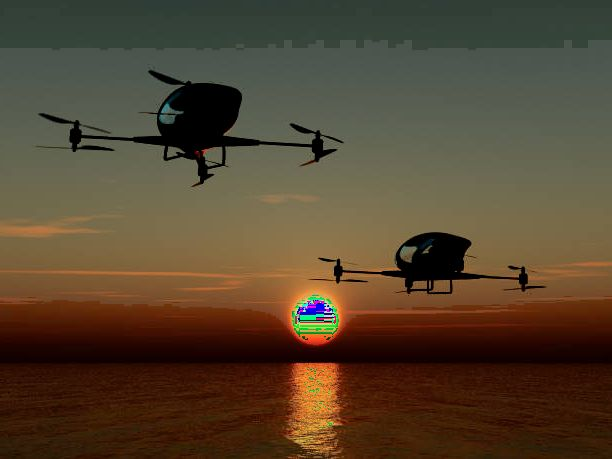Drone: (30, 66, 343, 189), (306, 229, 552, 297)
